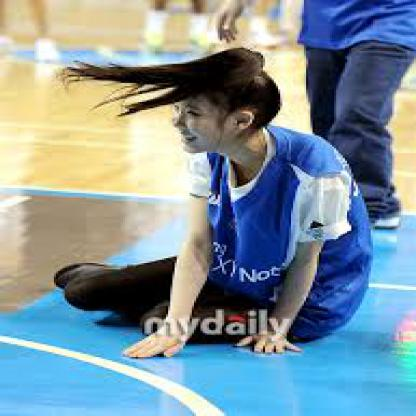Fall_Down: (48, 48, 377, 362)
